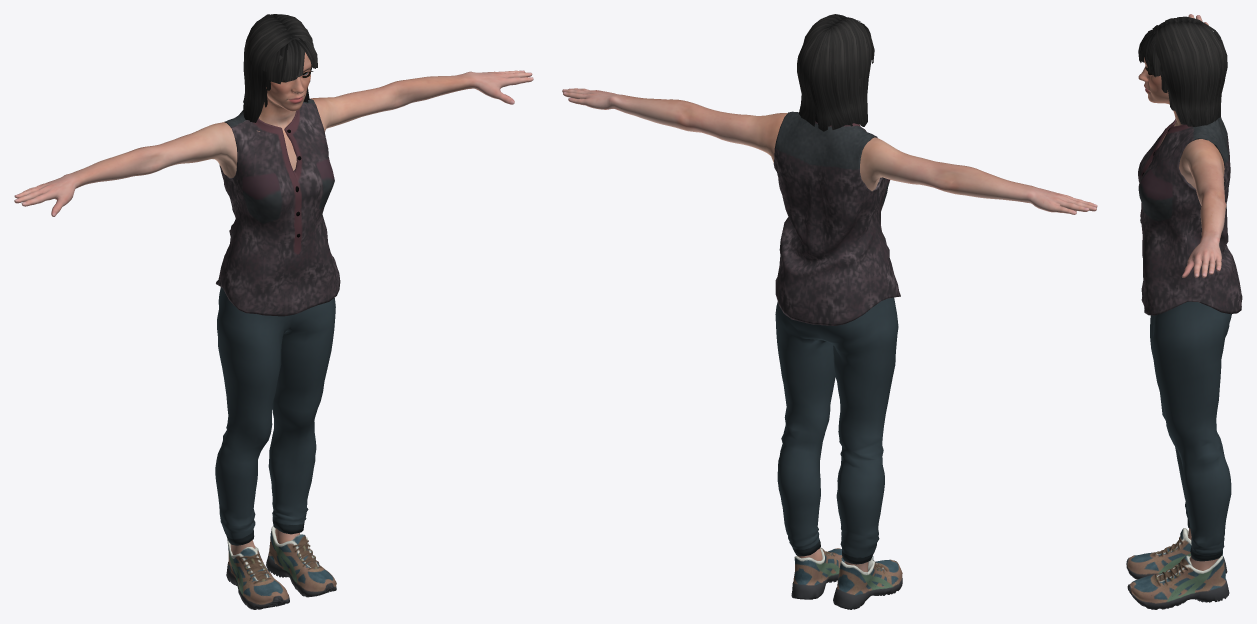
File: Female_2.obj
3 views of the same model, side by side, from view 1: azimuth 30°, elevation 25°; view 2: azimuth 150°, elevation 25°; view 3: azimuth 270°, elevation 25° (orthographic).
Visible parts, largest first — view 1: Bottoms, Tops, Body, Shoes, Hair; view 2: Bottoms, Tops, Body, Hair, Shoes; view 3: Bottoms, Tops, Hair, Body, Shoes.
Boxes of the visible parts, x1,y1,x2,y2 form: Bottoms: (215, 287, 335, 545); Tops: (216, 99, 340, 316); Body: (14, 52, 533, 555); Shoes: (226, 526, 336, 609); Hair: (243, 14, 317, 122); Bottoms: (775, 297, 898, 564); Tops: (773, 111, 900, 325); Body: (562, 88, 1097, 572); Hair: (797, 14, 874, 131); Shoes: (791, 547, 902, 609); Bottoms: (1150, 301, 1231, 561); Tops: (1138, 117, 1242, 315); Hair: (1138, 16, 1227, 126); Body: (1138, 14, 1226, 570); Shoes: (1126, 528, 1229, 609).
Bounding box in the file's own units: 163 × 169 × 31.2.
Materials: 1 (1 with a texture image).
